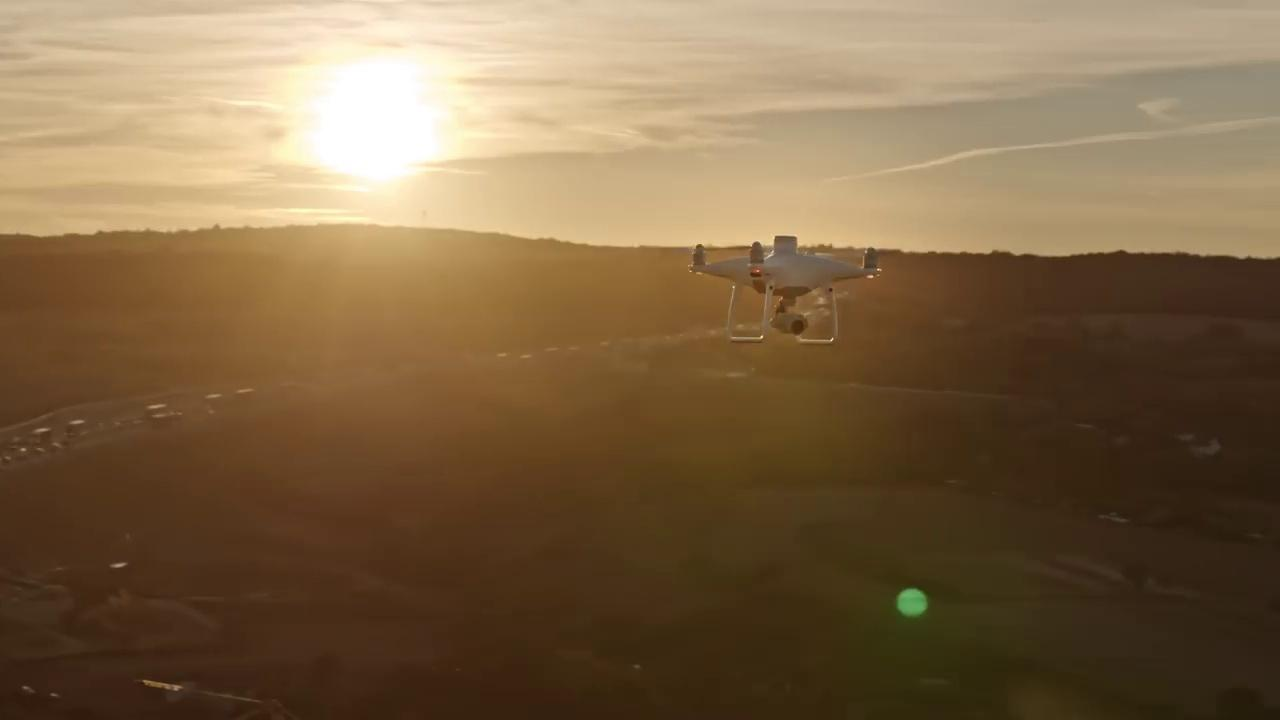drone: (677, 231, 900, 345)
